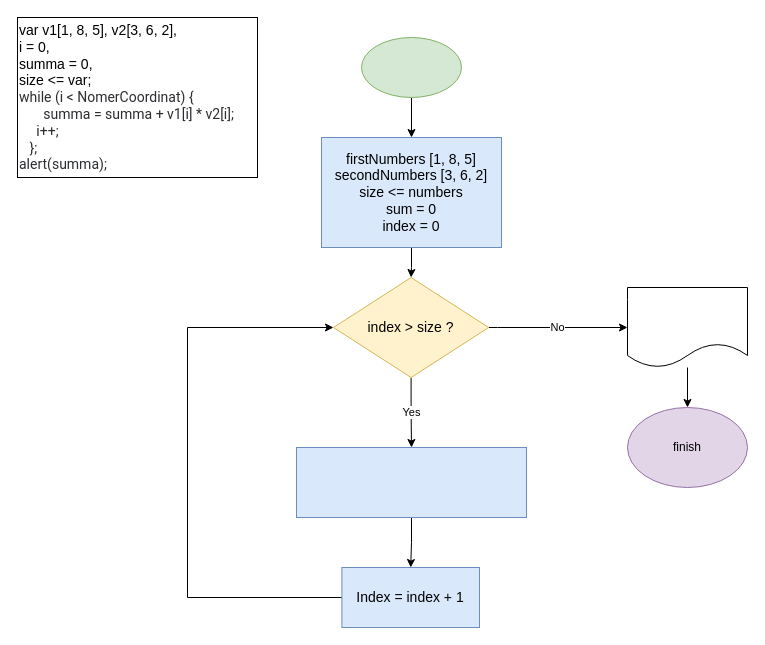
Image size: 765x645. Some labels were removed from this diagram. Each missing label, with the centre of its shape:
"Print SUM" goes at pixel 687 327.
"start" goes at pixel 411 67.
"sum = sum + firstNumbers [index] * secondNumbers [index]" goes at pixel 411 482.
